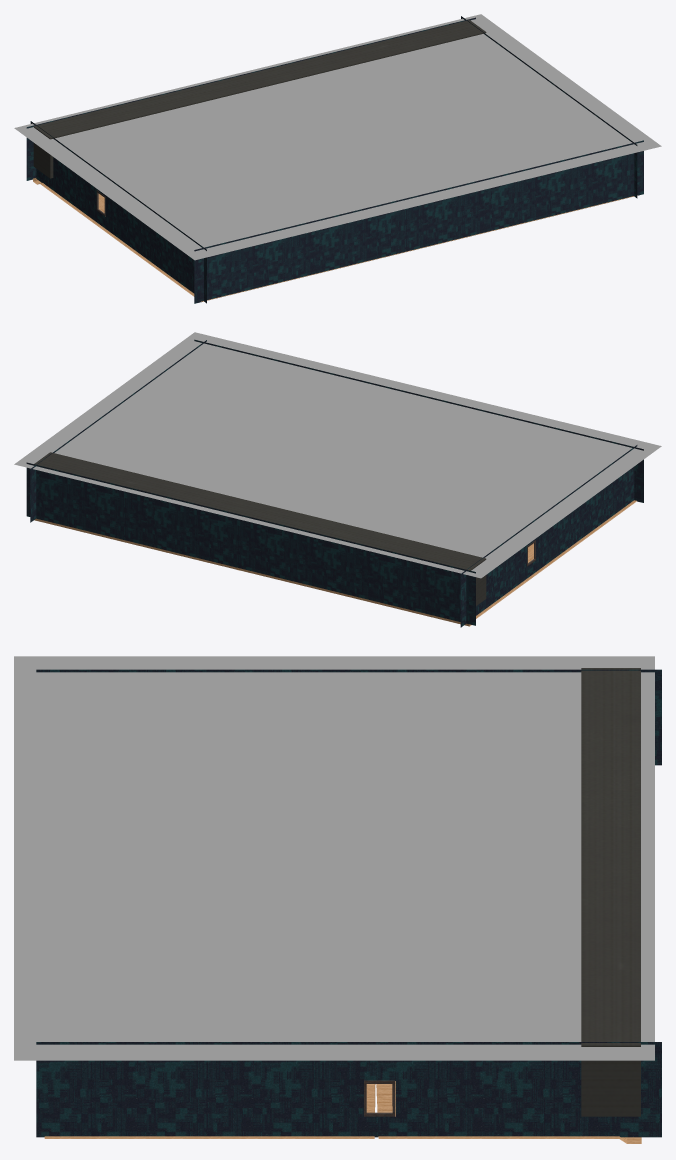
The model's file is AlleysEnviro.fbx.
3 views of the same model, one above another, from view 1: azimuth 30°, elevation 25°; view 2: azimuth 150°, elevation 25°; view 3: azimuth 270°, elevation 25° (orthographic). The views are drawn at different scales.
Parts seen in each view (by area): view 1: Roof, Walls, Board, Floor; view 2: Roof, Walls, Board, Floor; view 3: Roof, Walls, Board, Floor.
Part boxes in pixels (bbox=[...]): Roof: bbox=[14, 14, 661, 260]; Walls: bbox=[26, 16, 643, 303]; Board: bbox=[33, 20, 486, 178]; Floor: bbox=[33, 178, 637, 301]; Roof: bbox=[14, 332, 661, 578]; Walls: bbox=[26, 339, 643, 627]; Board: bbox=[34, 452, 486, 605]; Floor: bbox=[34, 500, 636, 626]; Roof: bbox=[14, 656, 654, 1060]; Walls: bbox=[36, 669, 661, 1137]; Board: bbox=[581, 668, 640, 1116]; Floor: bbox=[44, 1081, 641, 1143].
Size of the model in its own units: 873 by 101 by 591.
